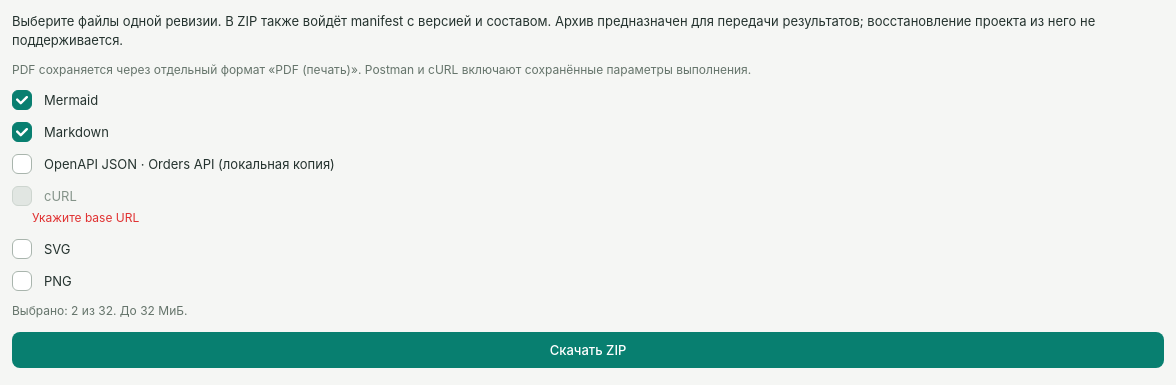
Test: cancels a pending archive on unmount so closing or refreshing cannot download stale bytes
Click the button "Скачать ZIP": {"x": 588, "y": 350} 12,332 -> 1164,368
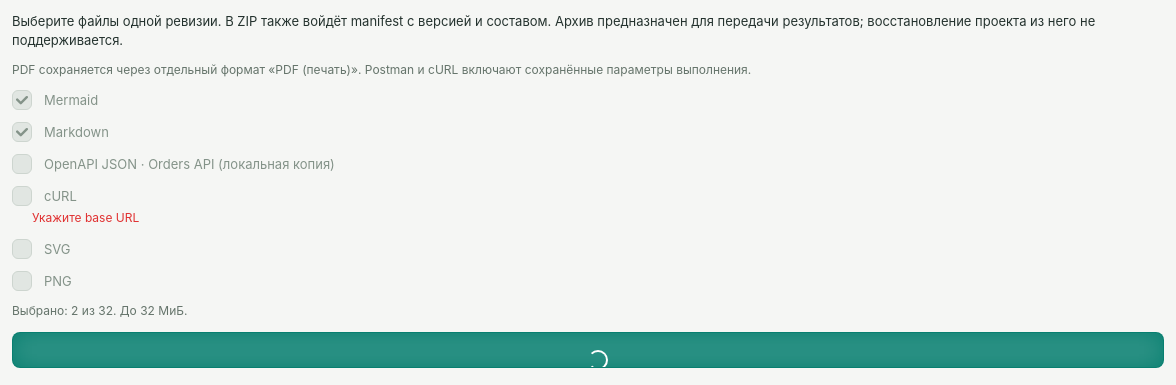
Expected: the checkbox labelled "Mermaid" is disabled, 12,90 -> 32,110
